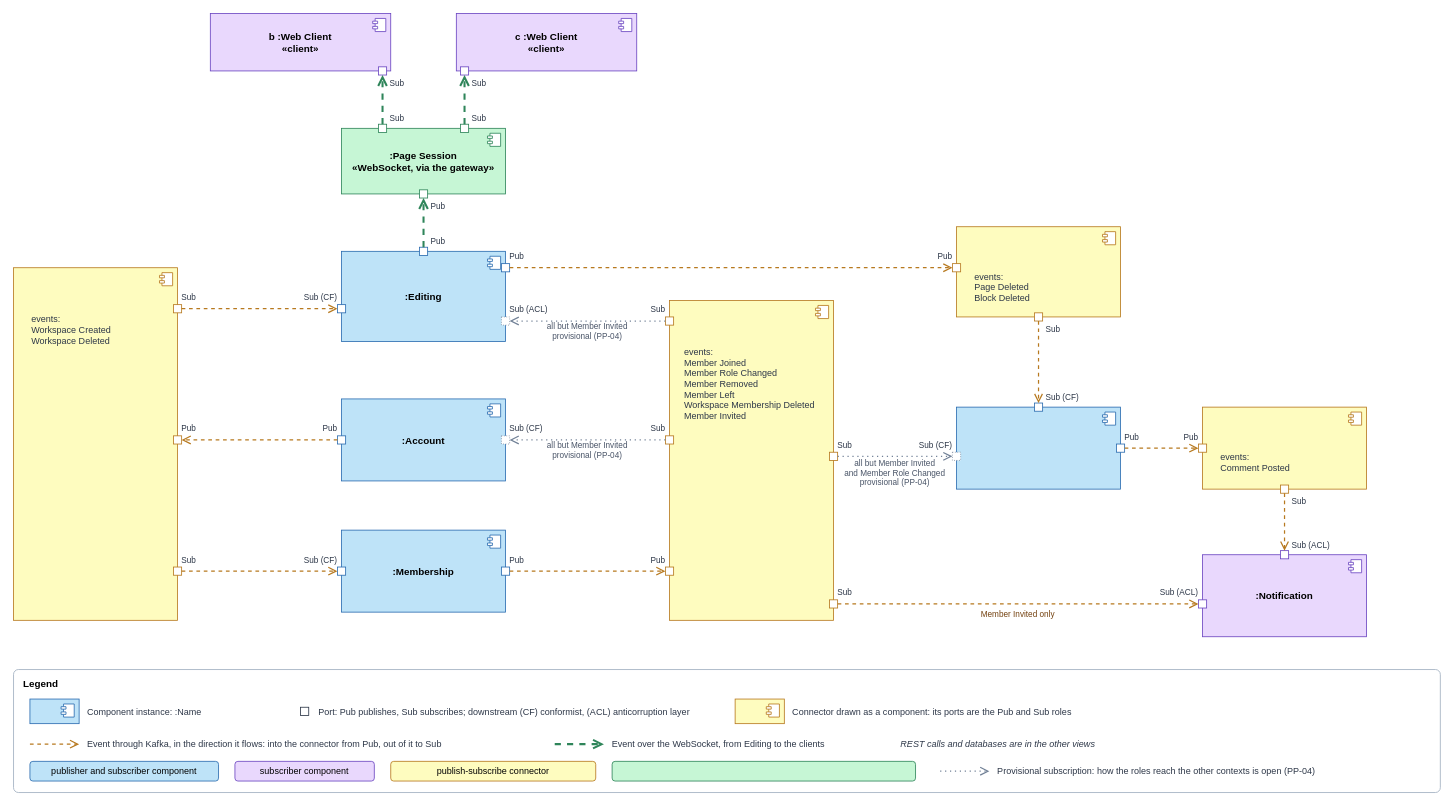
The diagram is 1454 pixels wide and 806 high, and some of its shapes have lost their labels. Here are the shapes that lost their labels. From the top down, the box of each, then its label:
(956, 226, 1121, 317): :Editing Events «Kafka»
(13, 267, 178, 620): :Account Events «Kafka»
(669, 300, 834, 620): :Membership Events «Kafka»
(956, 406, 1121, 489): :Discussion
(1202, 406, 1367, 489): :Discussion Events «Kafka»
(611, 761, 916, 781): event channel connector
